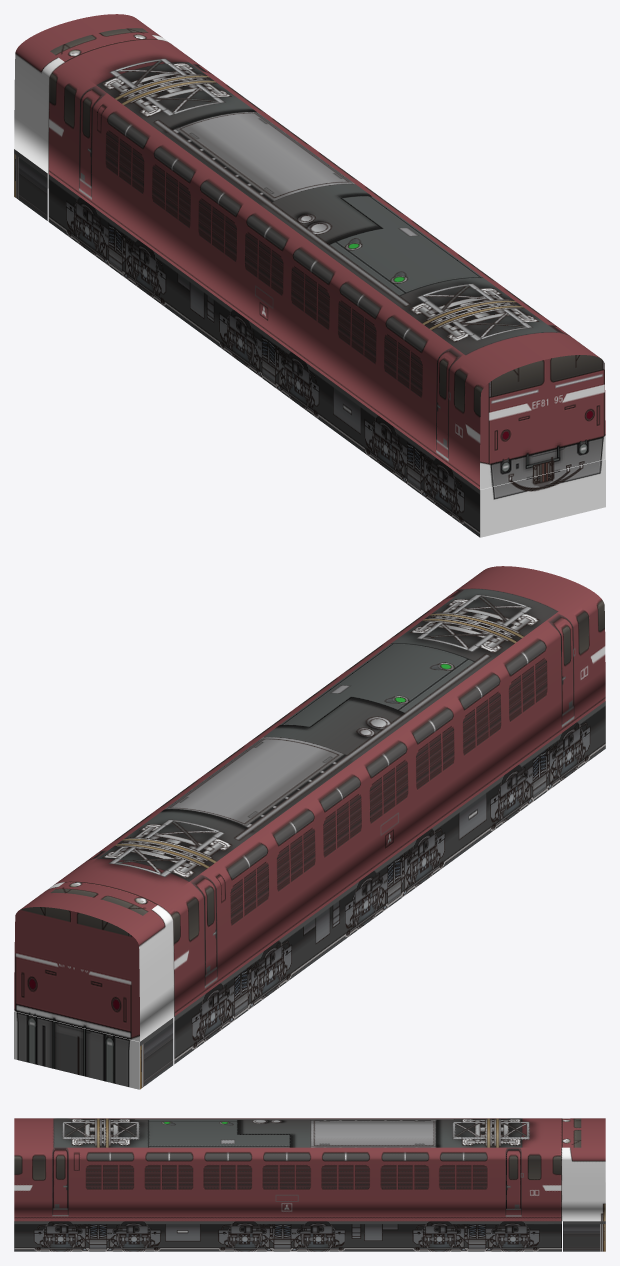
File: car1.glb
3 renders of one model, top to bottom at view 1: azimuth 30°, elevation 25°; view 2: azimuth 150°, elevation 25°; view 3: azimuth 270°, elevation 25°, orthographic. The views are drawn at different scales.
Parts seen in each view (by area): view 1: jr-ef81-car1; view 2: jr-ef81-car1; view 3: jr-ef81-car1.
Part boxes in pixels (x1,y1,x2,y2): jr-ef81-car1: (14,14,605,537); jr-ef81-car1: (14,566,605,1089); jr-ef81-car1: (14,1118,605,1251).
Size of the model in its own units: 2.9 by 3.57 by 18.63.
9 materials, 8 textured.
